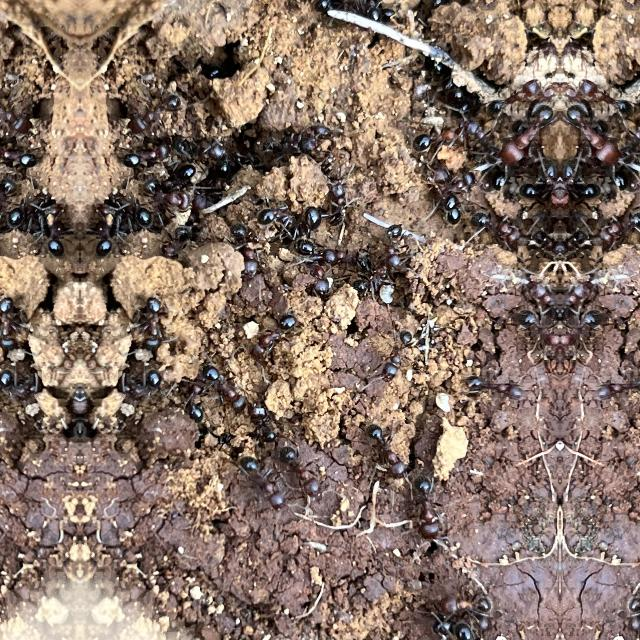Messor: (218, 447, 288, 511), (495, 98, 559, 162), (561, 98, 625, 162), (245, 300, 297, 368), (222, 223, 276, 287), (464, 367, 528, 421), (393, 108, 462, 156), (356, 421, 409, 479), (201, 361, 257, 414), (278, 444, 330, 501), (373, 326, 417, 388), (592, 367, 640, 421), (170, 370, 213, 430), (478, 76, 542, 116), (577, 76, 640, 116), (281, 203, 329, 255), (511, 304, 559, 356), (561, 304, 609, 356), (140, 294, 180, 356), (471, 204, 527, 248), (128, 91, 182, 133), (306, 257, 344, 313), (593, 203, 640, 248), (300, 232, 348, 276), (254, 202, 312, 236), (94, 208, 130, 262), (30, 208, 66, 262), (124, 367, 168, 411), (413, 472, 441, 540), (518, 176, 560, 220), (560, 176, 602, 220), (152, 168, 188, 218), (321, 177, 355, 229), (118, 187, 158, 231), (2, 187, 42, 231), (80, 381, 104, 447), (0, 367, 36, 411), (56, 381, 80, 447), (527, 280, 559, 328), (561, 280, 593, 328), (114, 148, 168, 176), (293, 122, 335, 158), (464, 582, 500, 624), (376, 224, 404, 276), (0, 147, 45, 176), (0, 91, 31, 133), (434, 184, 466, 223), (434, 612, 478, 640), (206, 144, 242, 178), (0, 294, 19, 355), (531, 223, 559, 263), (561, 223, 589, 263), (160, 136, 203, 162), (620, 582, 640, 623), (0, 168, 8, 217)
